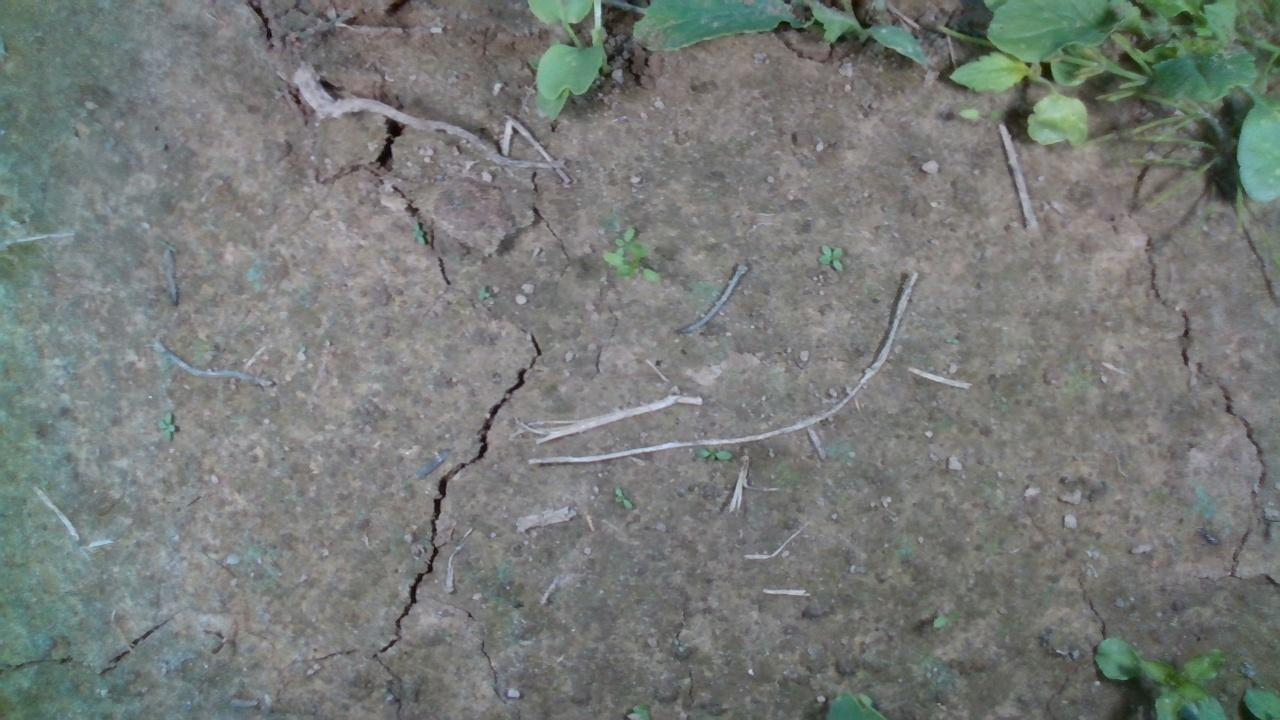weed: (816, 242, 844, 271), (692, 446, 733, 461), (612, 485, 633, 509), (472, 282, 491, 300)
